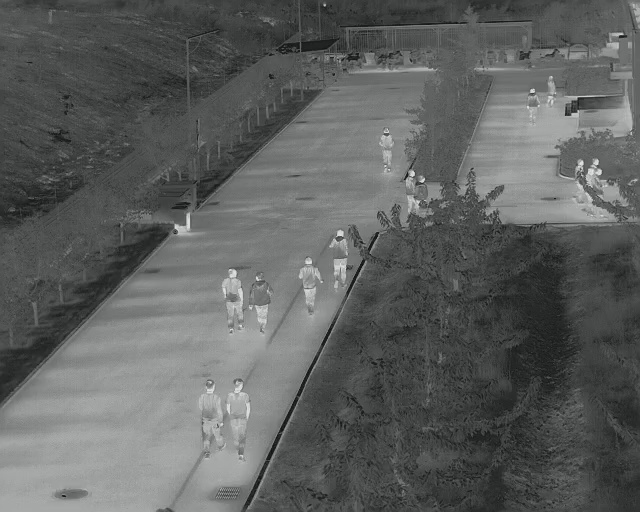person: (225, 379, 253, 459), (199, 379, 221, 458), (250, 271, 273, 339), (222, 267, 244, 331), (328, 228, 350, 289), (299, 255, 322, 313), (405, 169, 424, 212), (378, 126, 395, 173), (572, 158, 586, 204), (526, 89, 540, 126), (593, 167, 605, 207), (546, 76, 557, 109)
